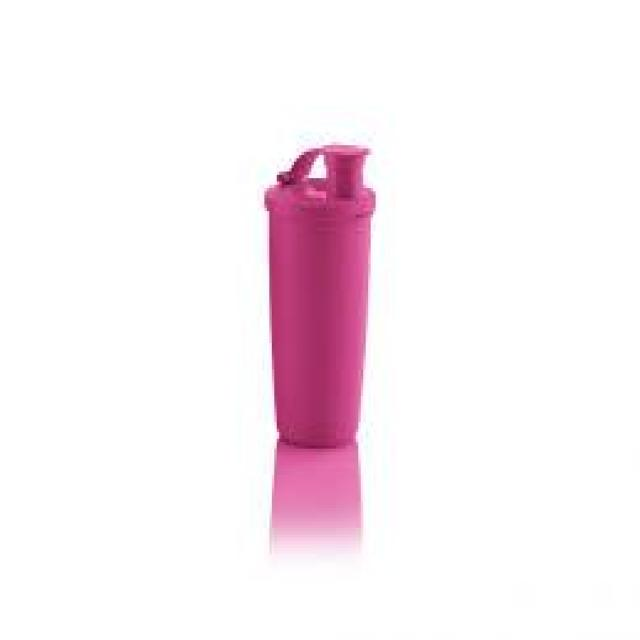bottle: (263, 142, 379, 452)
